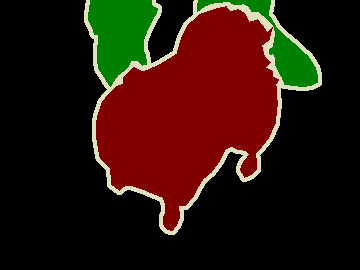dog: (93, 6, 281, 232)
person: (81, 1, 323, 96)
